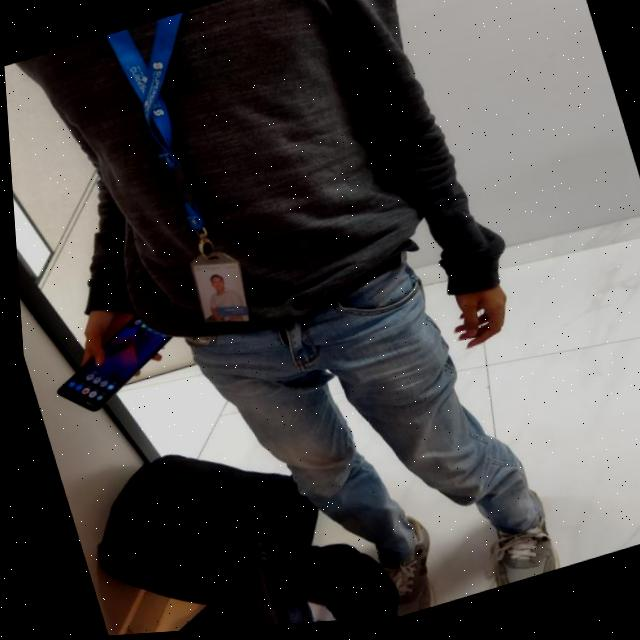id_card: (89, 12, 269, 360)
